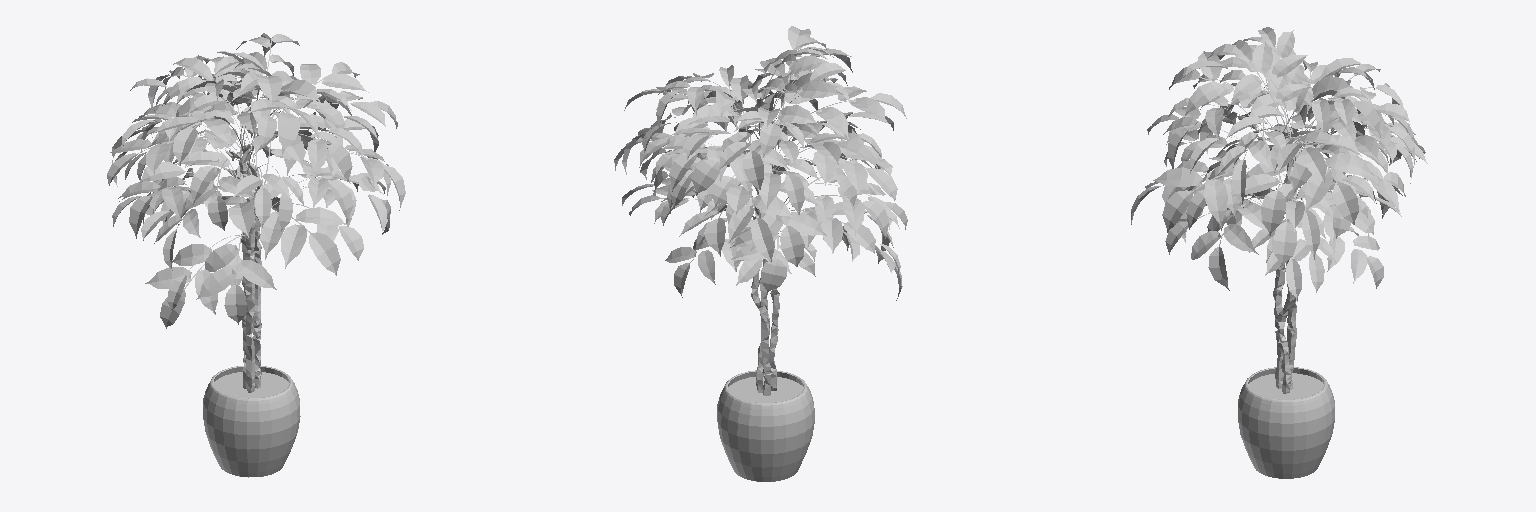
Rendered from OBJ_Interior Tree Plant.obj.
3 renders of one model, left to right at view 1: azimuth 30°, elevation 25°; view 2: azimuth 150°, elevation 25°; view 3: azimuth 270°, elevation 25°, orthographic.
Parts seen in each view (by area): view 1: tree___GAME_polySurface706; view 2: tree___GAME_polySurface706; view 3: tree___GAME_polySurface706.
Boxes of the visible parts, x1,y1,x2,y2 form: tree___GAME_polySurface706: [107, 33, 405, 477]; tree___GAME_polySurface706: [614, 26, 907, 481]; tree___GAME_polySurface706: [1131, 27, 1427, 478].
Size of the model in its own units: 16.79 by 24.58 by 15.83.